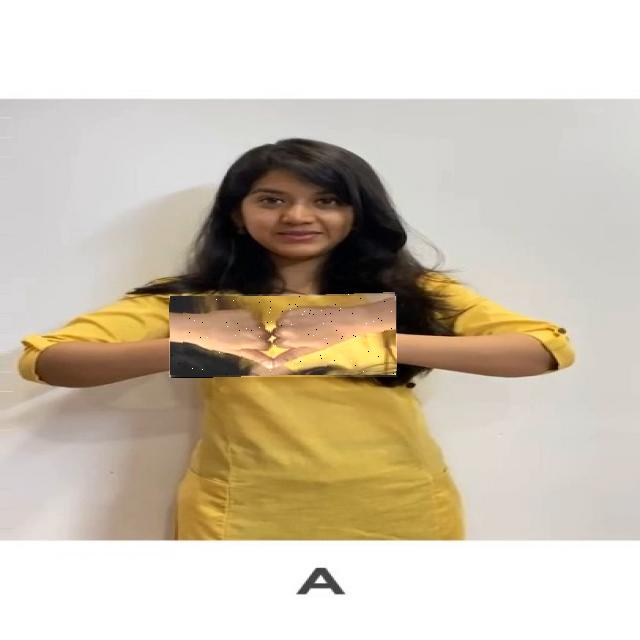A: (169, 294, 397, 377)
